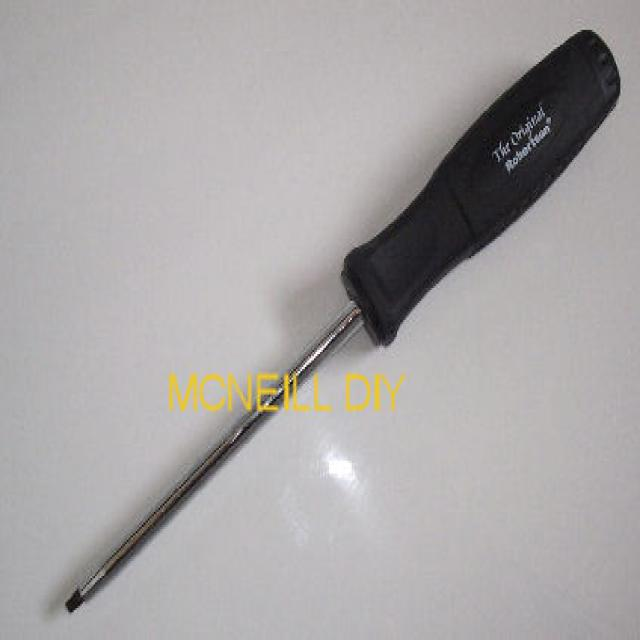screw_driver: (62, 30, 620, 614)
